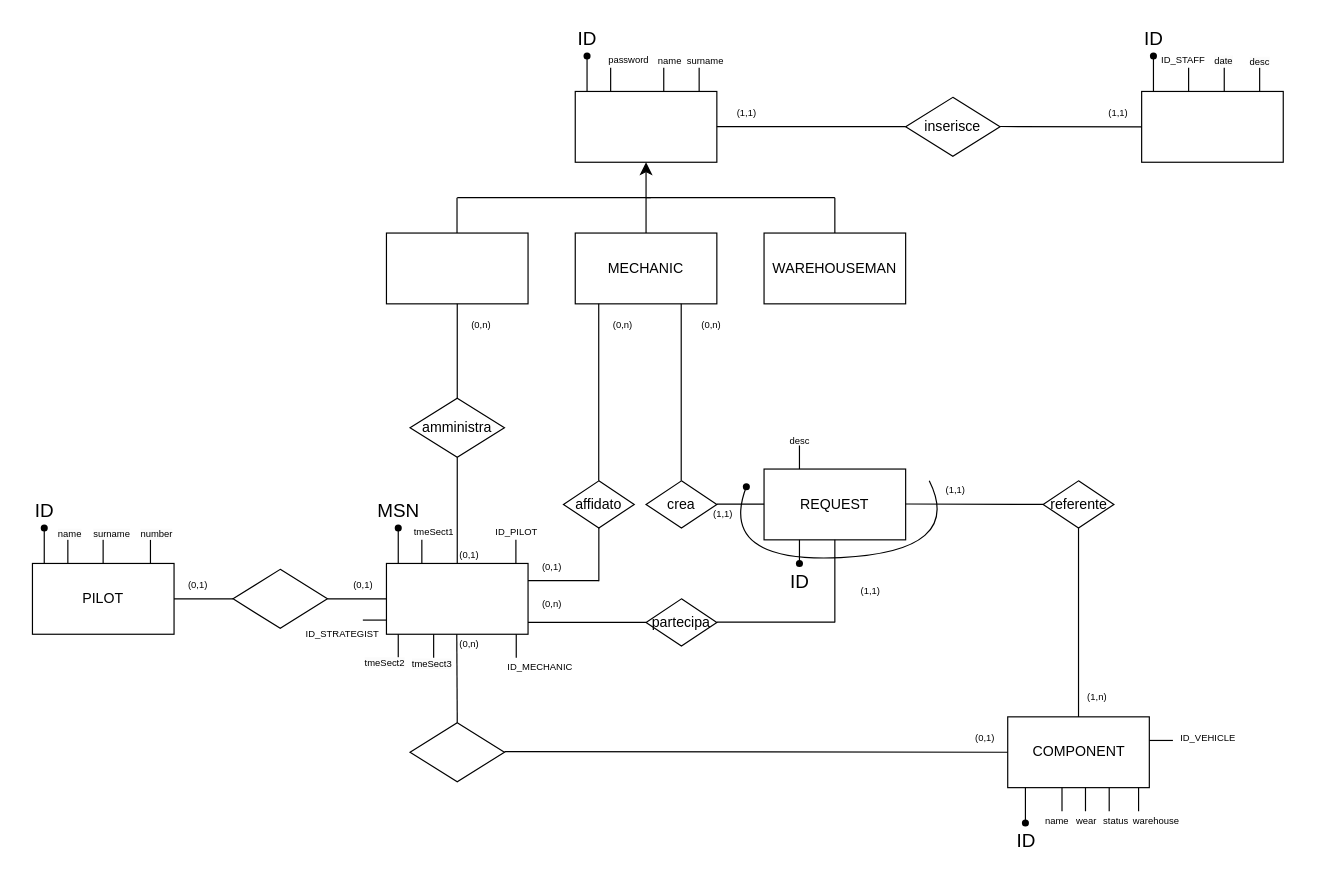
Image size: 1338x878. Some labels were removed from this diagram. Here are the shapes that lost their labels. From the top down, the centre of each, then its label:
(x=645, y=126): STAFF
(x=1211, y=126): LOG_EVENT
(x=456, y=268): STRATEGIST
(x=279, y=598): guida
(x=456, y=598): VEHICLE
(x=456, y=752): composta
